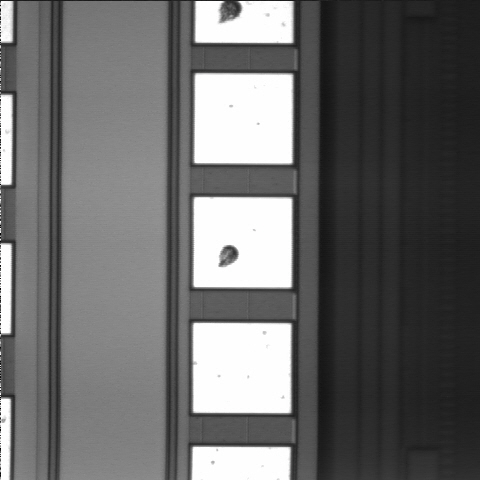pad: (194, 73, 293, 164), (194, 197, 292, 288), (193, 323, 291, 413)
